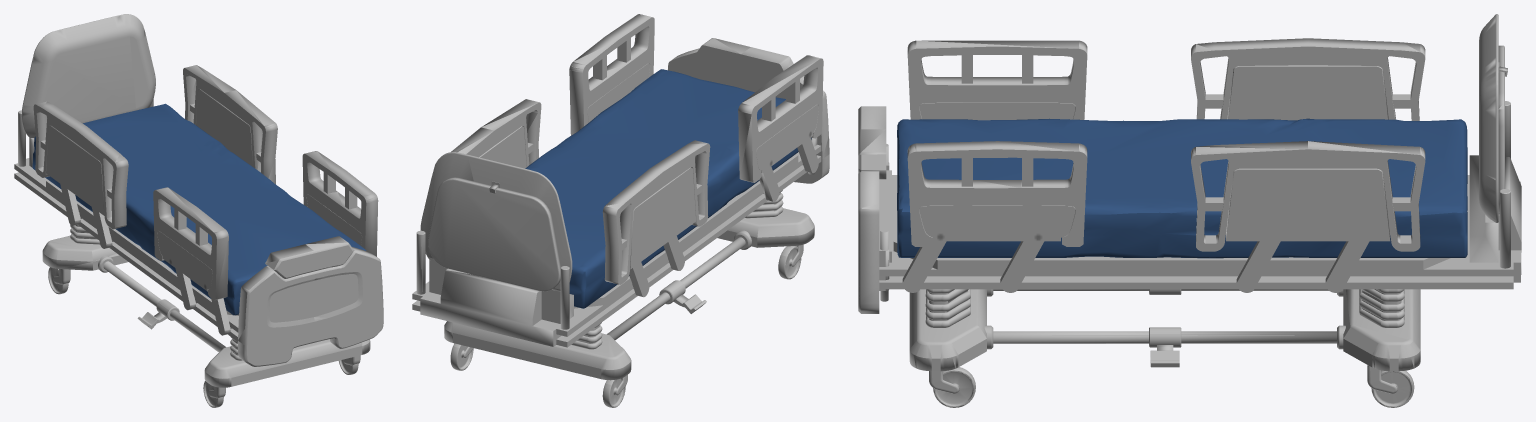
File: HospitalBed.glb
3 views of the same model, side by side, from view 1: azimuth 30°, elevation 25°; view 2: azimuth 150°, elevation 25°; view 3: azimuth 270°, elevation 25° (orthographic). The views are drawn at different scales.
Parts seen in each view (by area): view 1: bed_frame, mattress; view 2: bed_frame, mattress; view 3: bed_frame, mattress.
Part boxes in pixels (<box>): bed_frame: <box>14,14,383,407</box>; mattress: <box>32,103,366,315</box>; bed_frame: <box>412,14,829,407</box>; mattress: <box>525,69,811,308</box>; bed_frame: <box>858,14,1521,407</box>; mattress: <box>897,118,1467,258</box>.
Bounding box in the file's own units: 0.9698 × 1.3 × 2.45.
2 materials, 2 textured.
